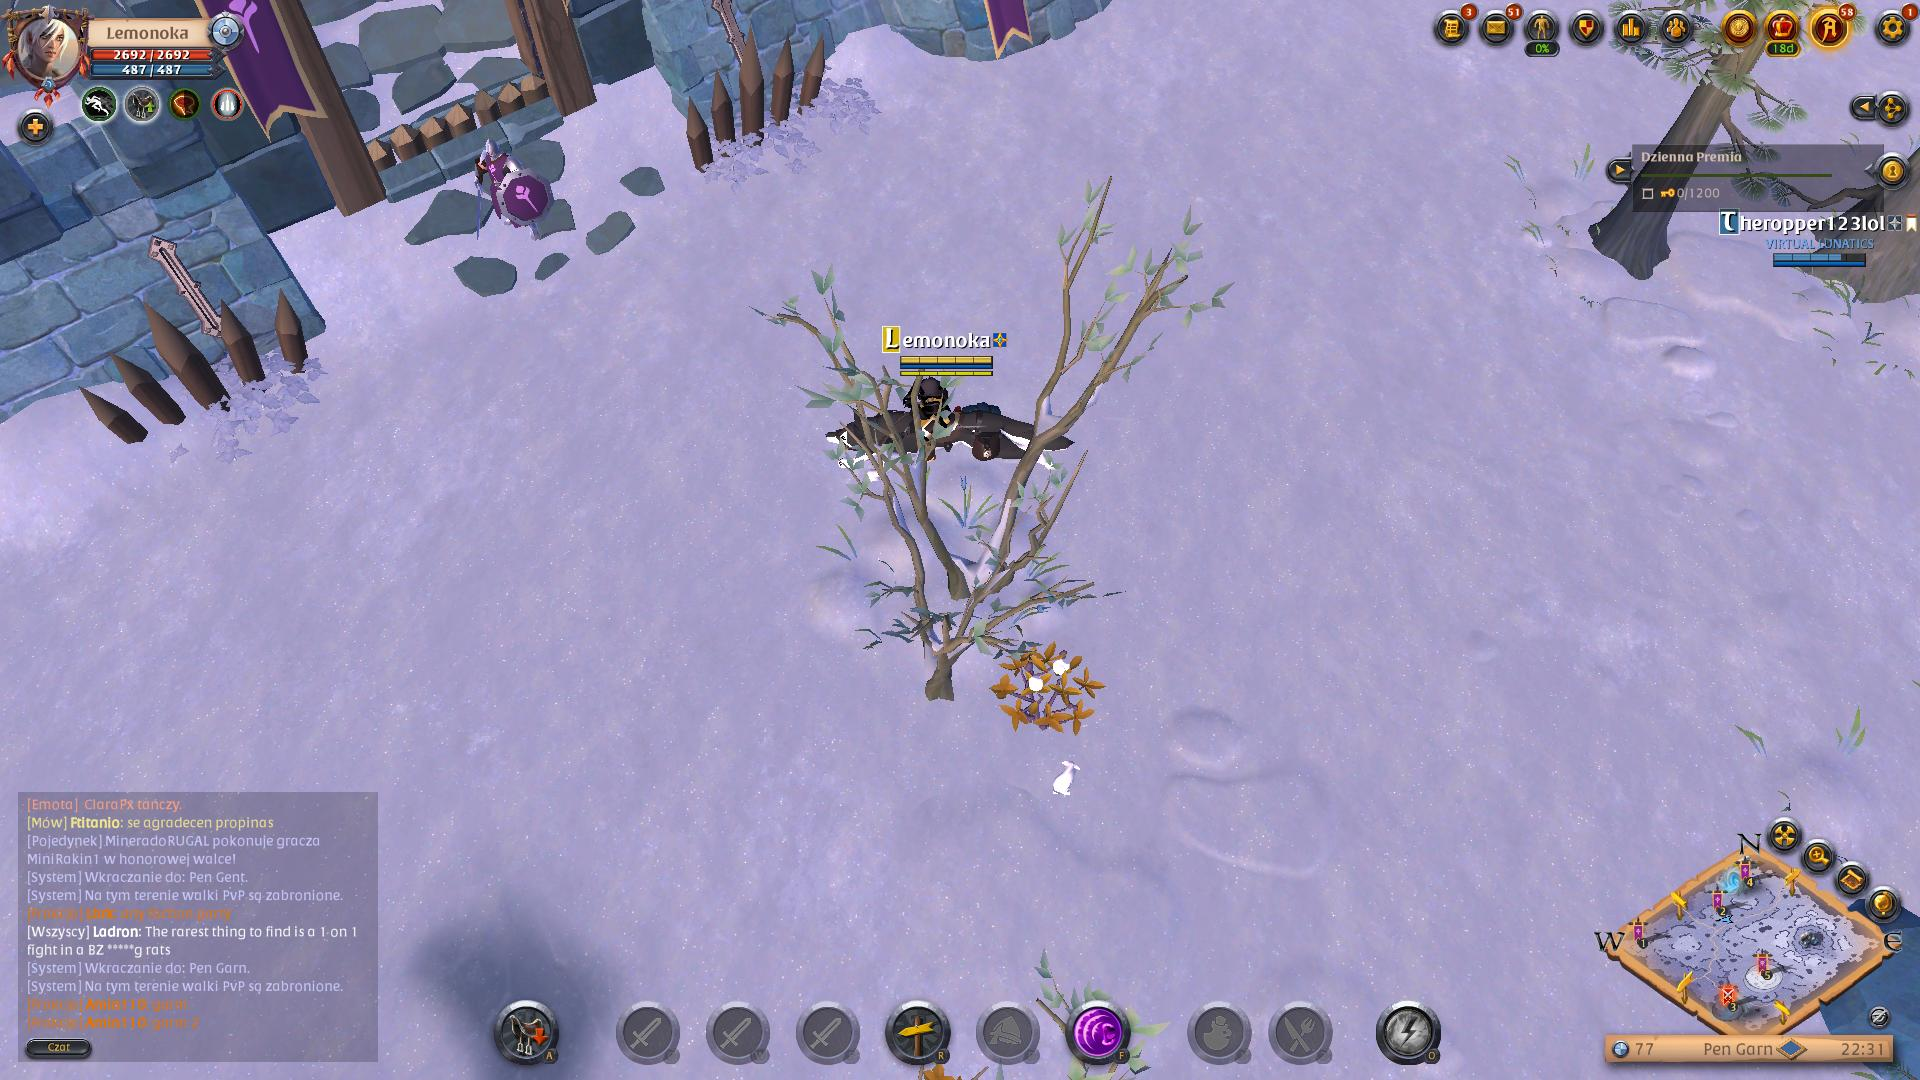fiber tier 2: (992, 637, 1104, 740)
